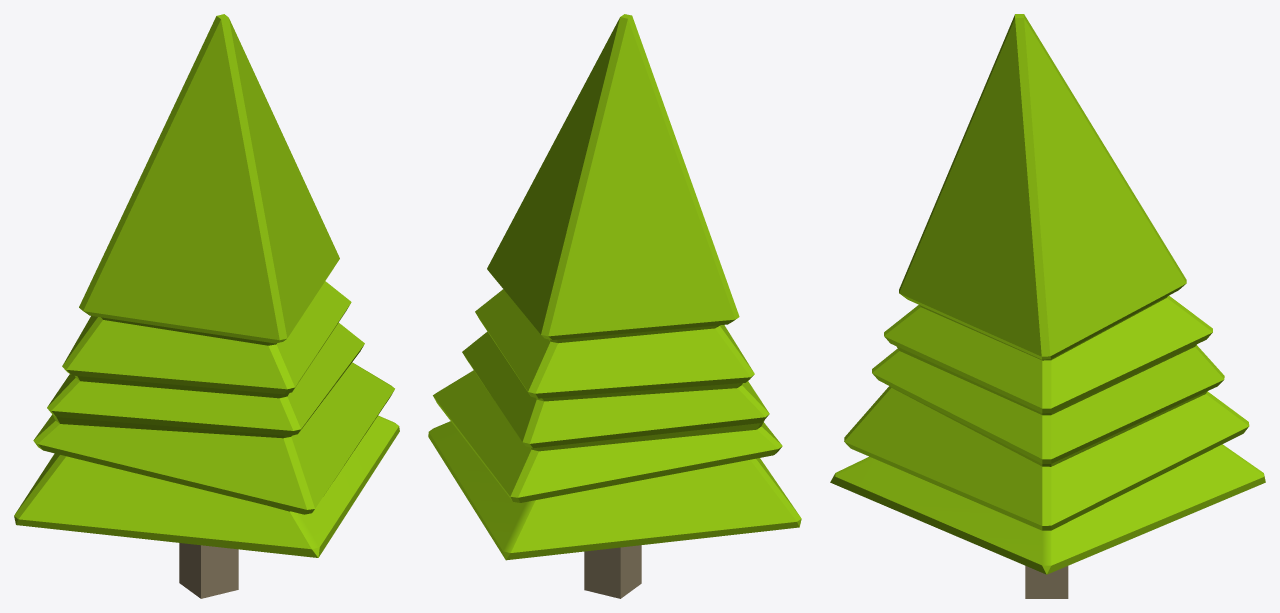
The model's file is pine_skewed_11_bevel.fbx.
3 views of the same model, side by side, from view 1: azimuth 30°, elevation 25°; view 2: azimuth 150°, elevation 25°; view 3: azimuth 270°, elevation 25° (orthographic). The views are drawn at different scales.
Visible parts, largest first — view 1: pine_skewed_11_bevel; view 2: pine_skewed_11_bevel; view 3: pine_skewed_11_bevel.
Part boxes in pixels (x1=…): pine_skewed_11_bevel: x1=14, y1=14, x2=399, y2=598; pine_skewed_11_bevel: x1=428, y1=14, x2=801, y2=598; pine_skewed_11_bevel: x1=830, y1=14, x2=1265, y2=598.
Size of the model in its own units: 123 by 178 by 122.
